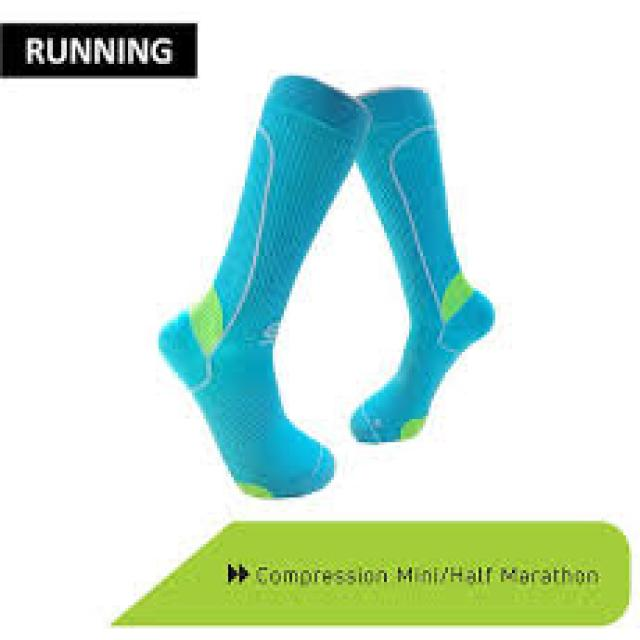sock: (156, 73, 370, 497), (348, 85, 495, 442)
